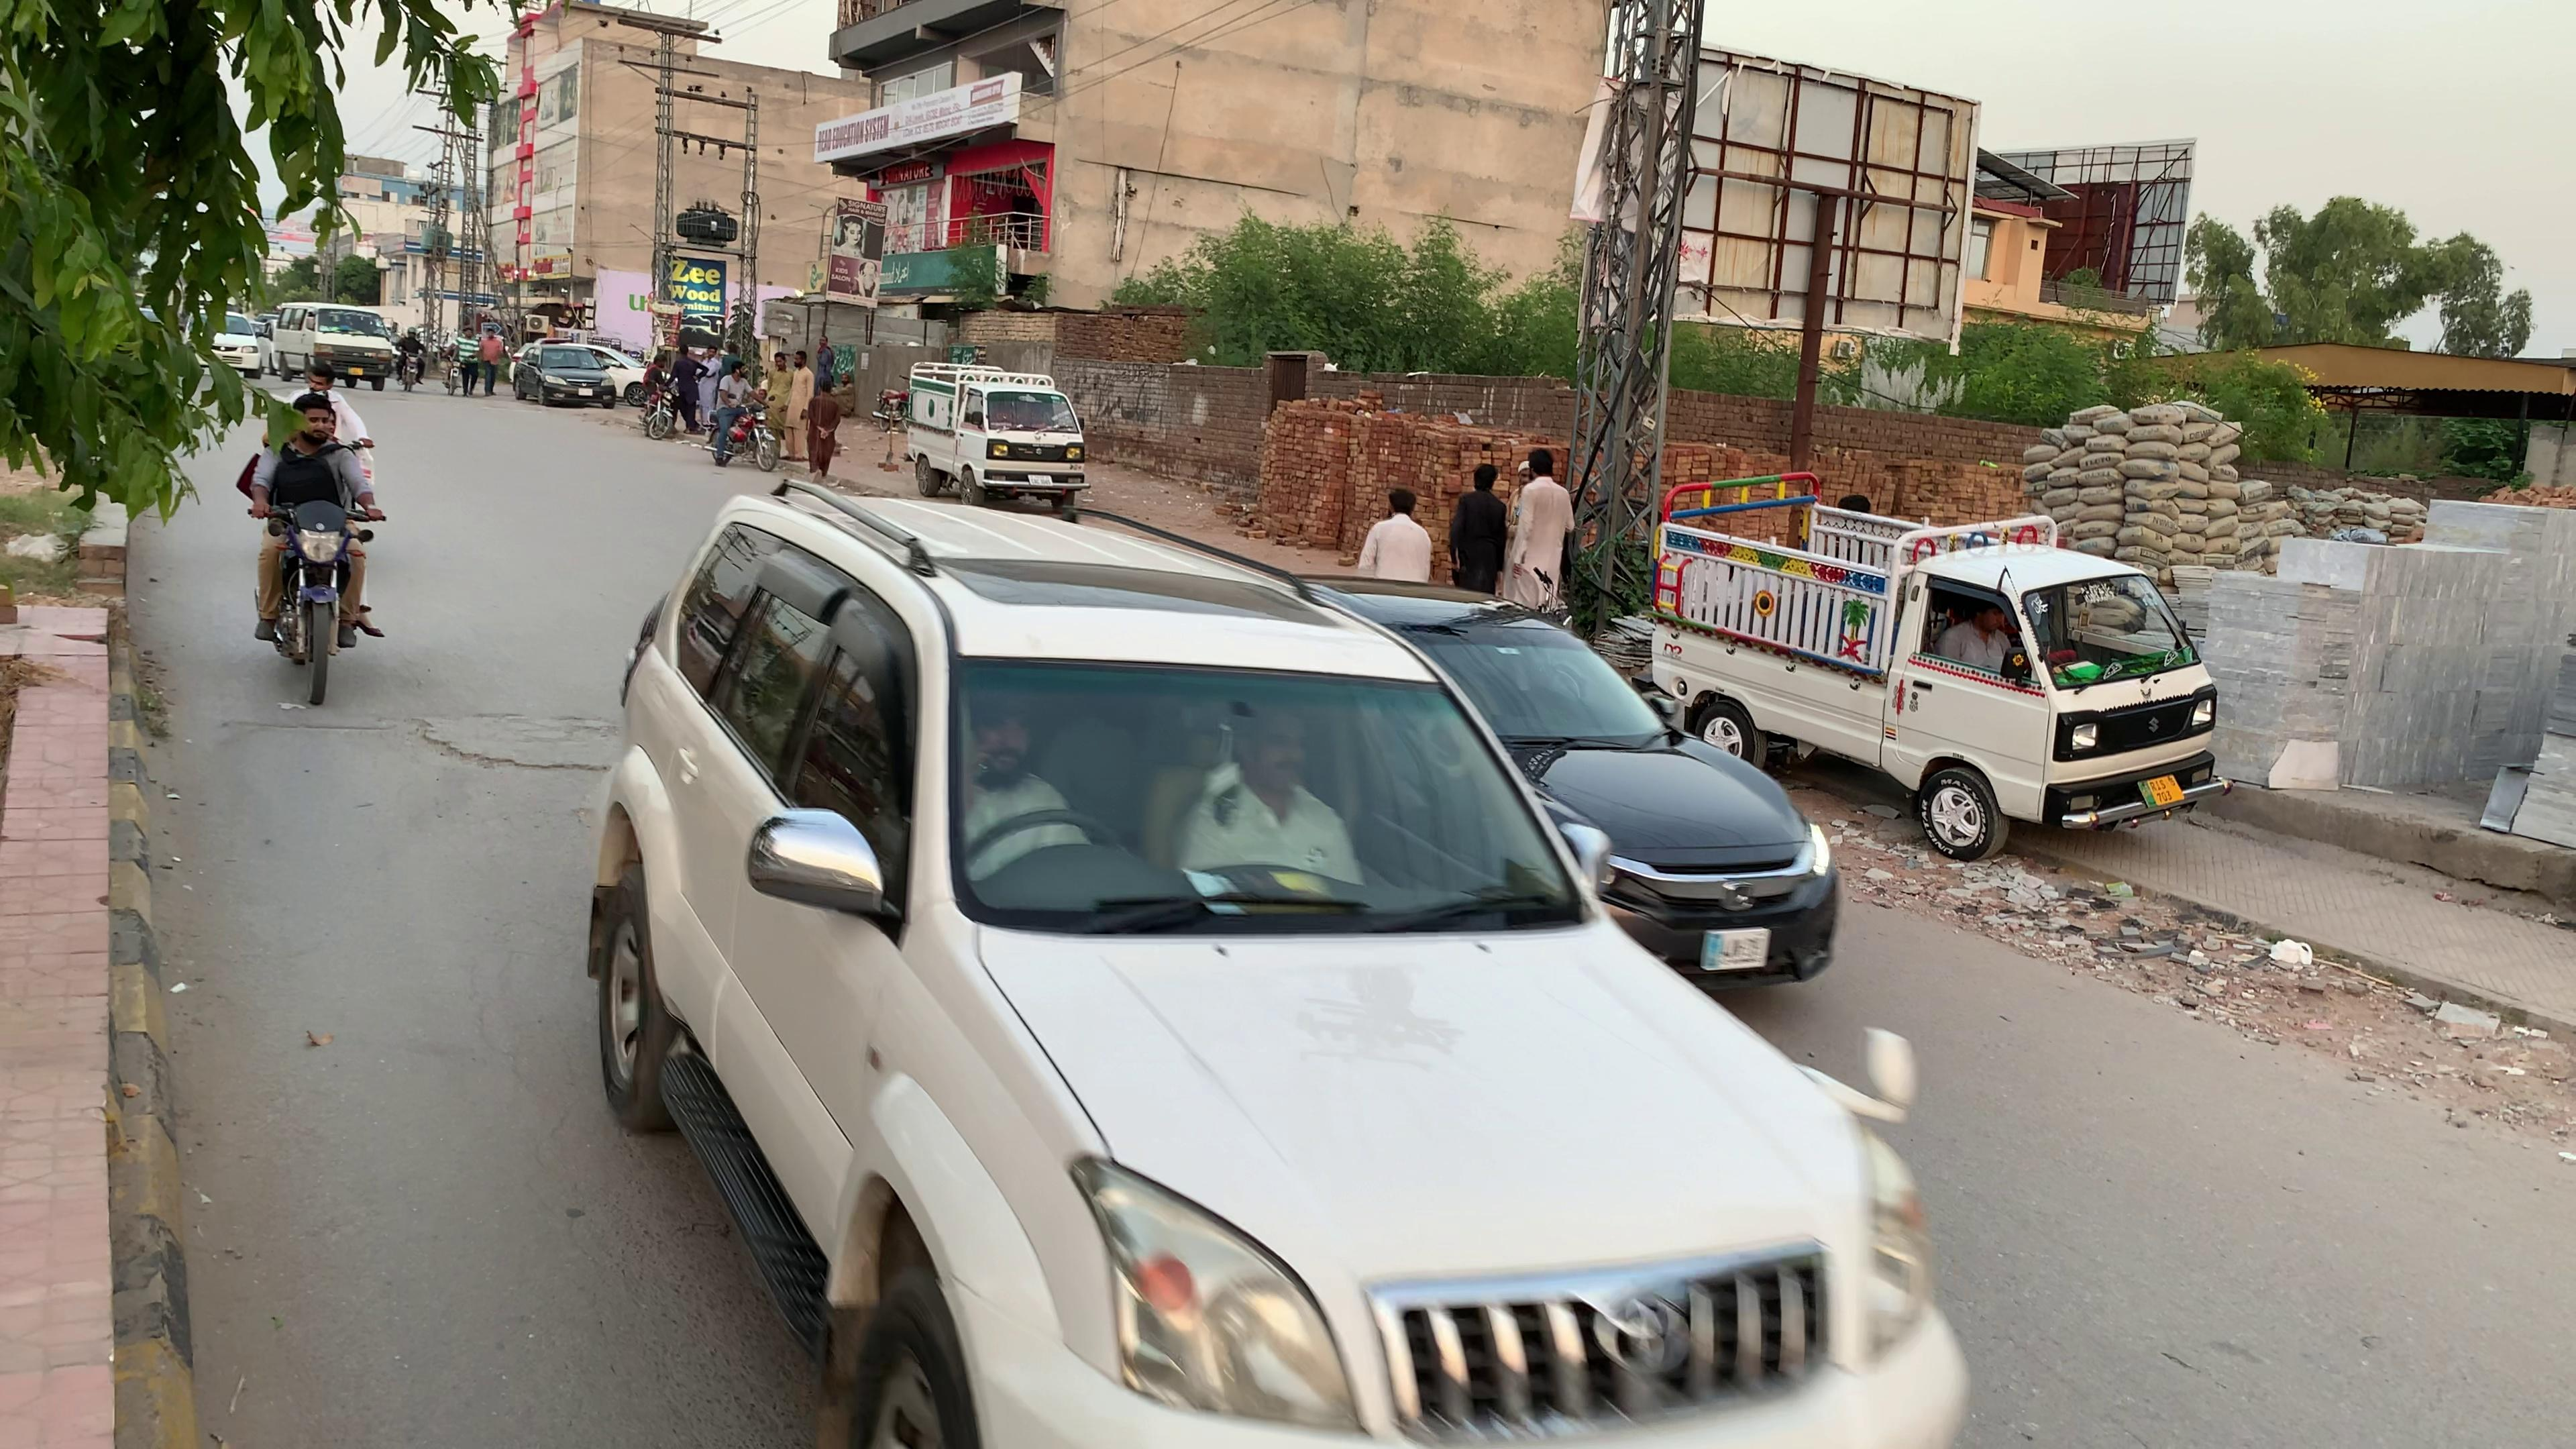windshield: (931, 628, 1594, 918)
